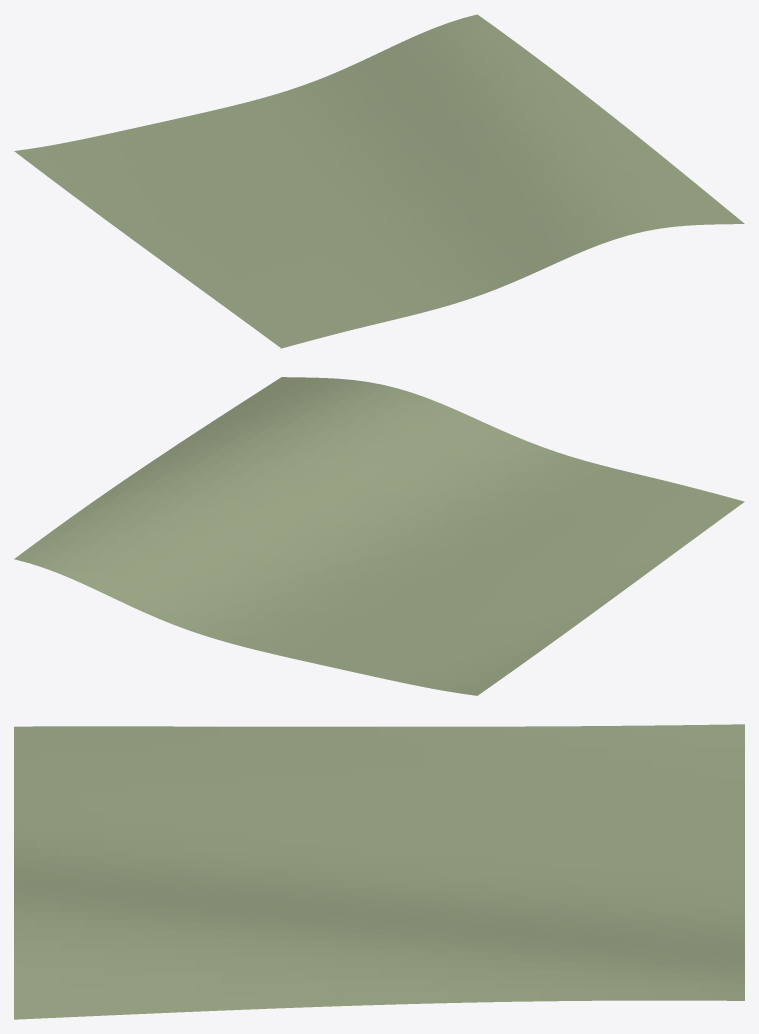
The model's file is desert-3-4.glb.
The picture shows the model from 3 angles, top to bottom: view 1: azimuth 30°, elevation 25°; view 2: azimuth 150°, elevation 25°; view 3: azimuth 270°, elevation 25°; orthographic projection. The views are drawn at different scales.
Visible parts, largest first — view 1: desert-3-4; view 2: desert-3-4; view 3: desert-3-4.
Boxes of the visible parts, x1,y1,x2,y2 form: desert-3-4: (14,14,744,348); desert-3-4: (14,377,744,695); desert-3-4: (14,724,744,1019).
Bounding box in the file's own units: 512 × 37.12 × 512.
